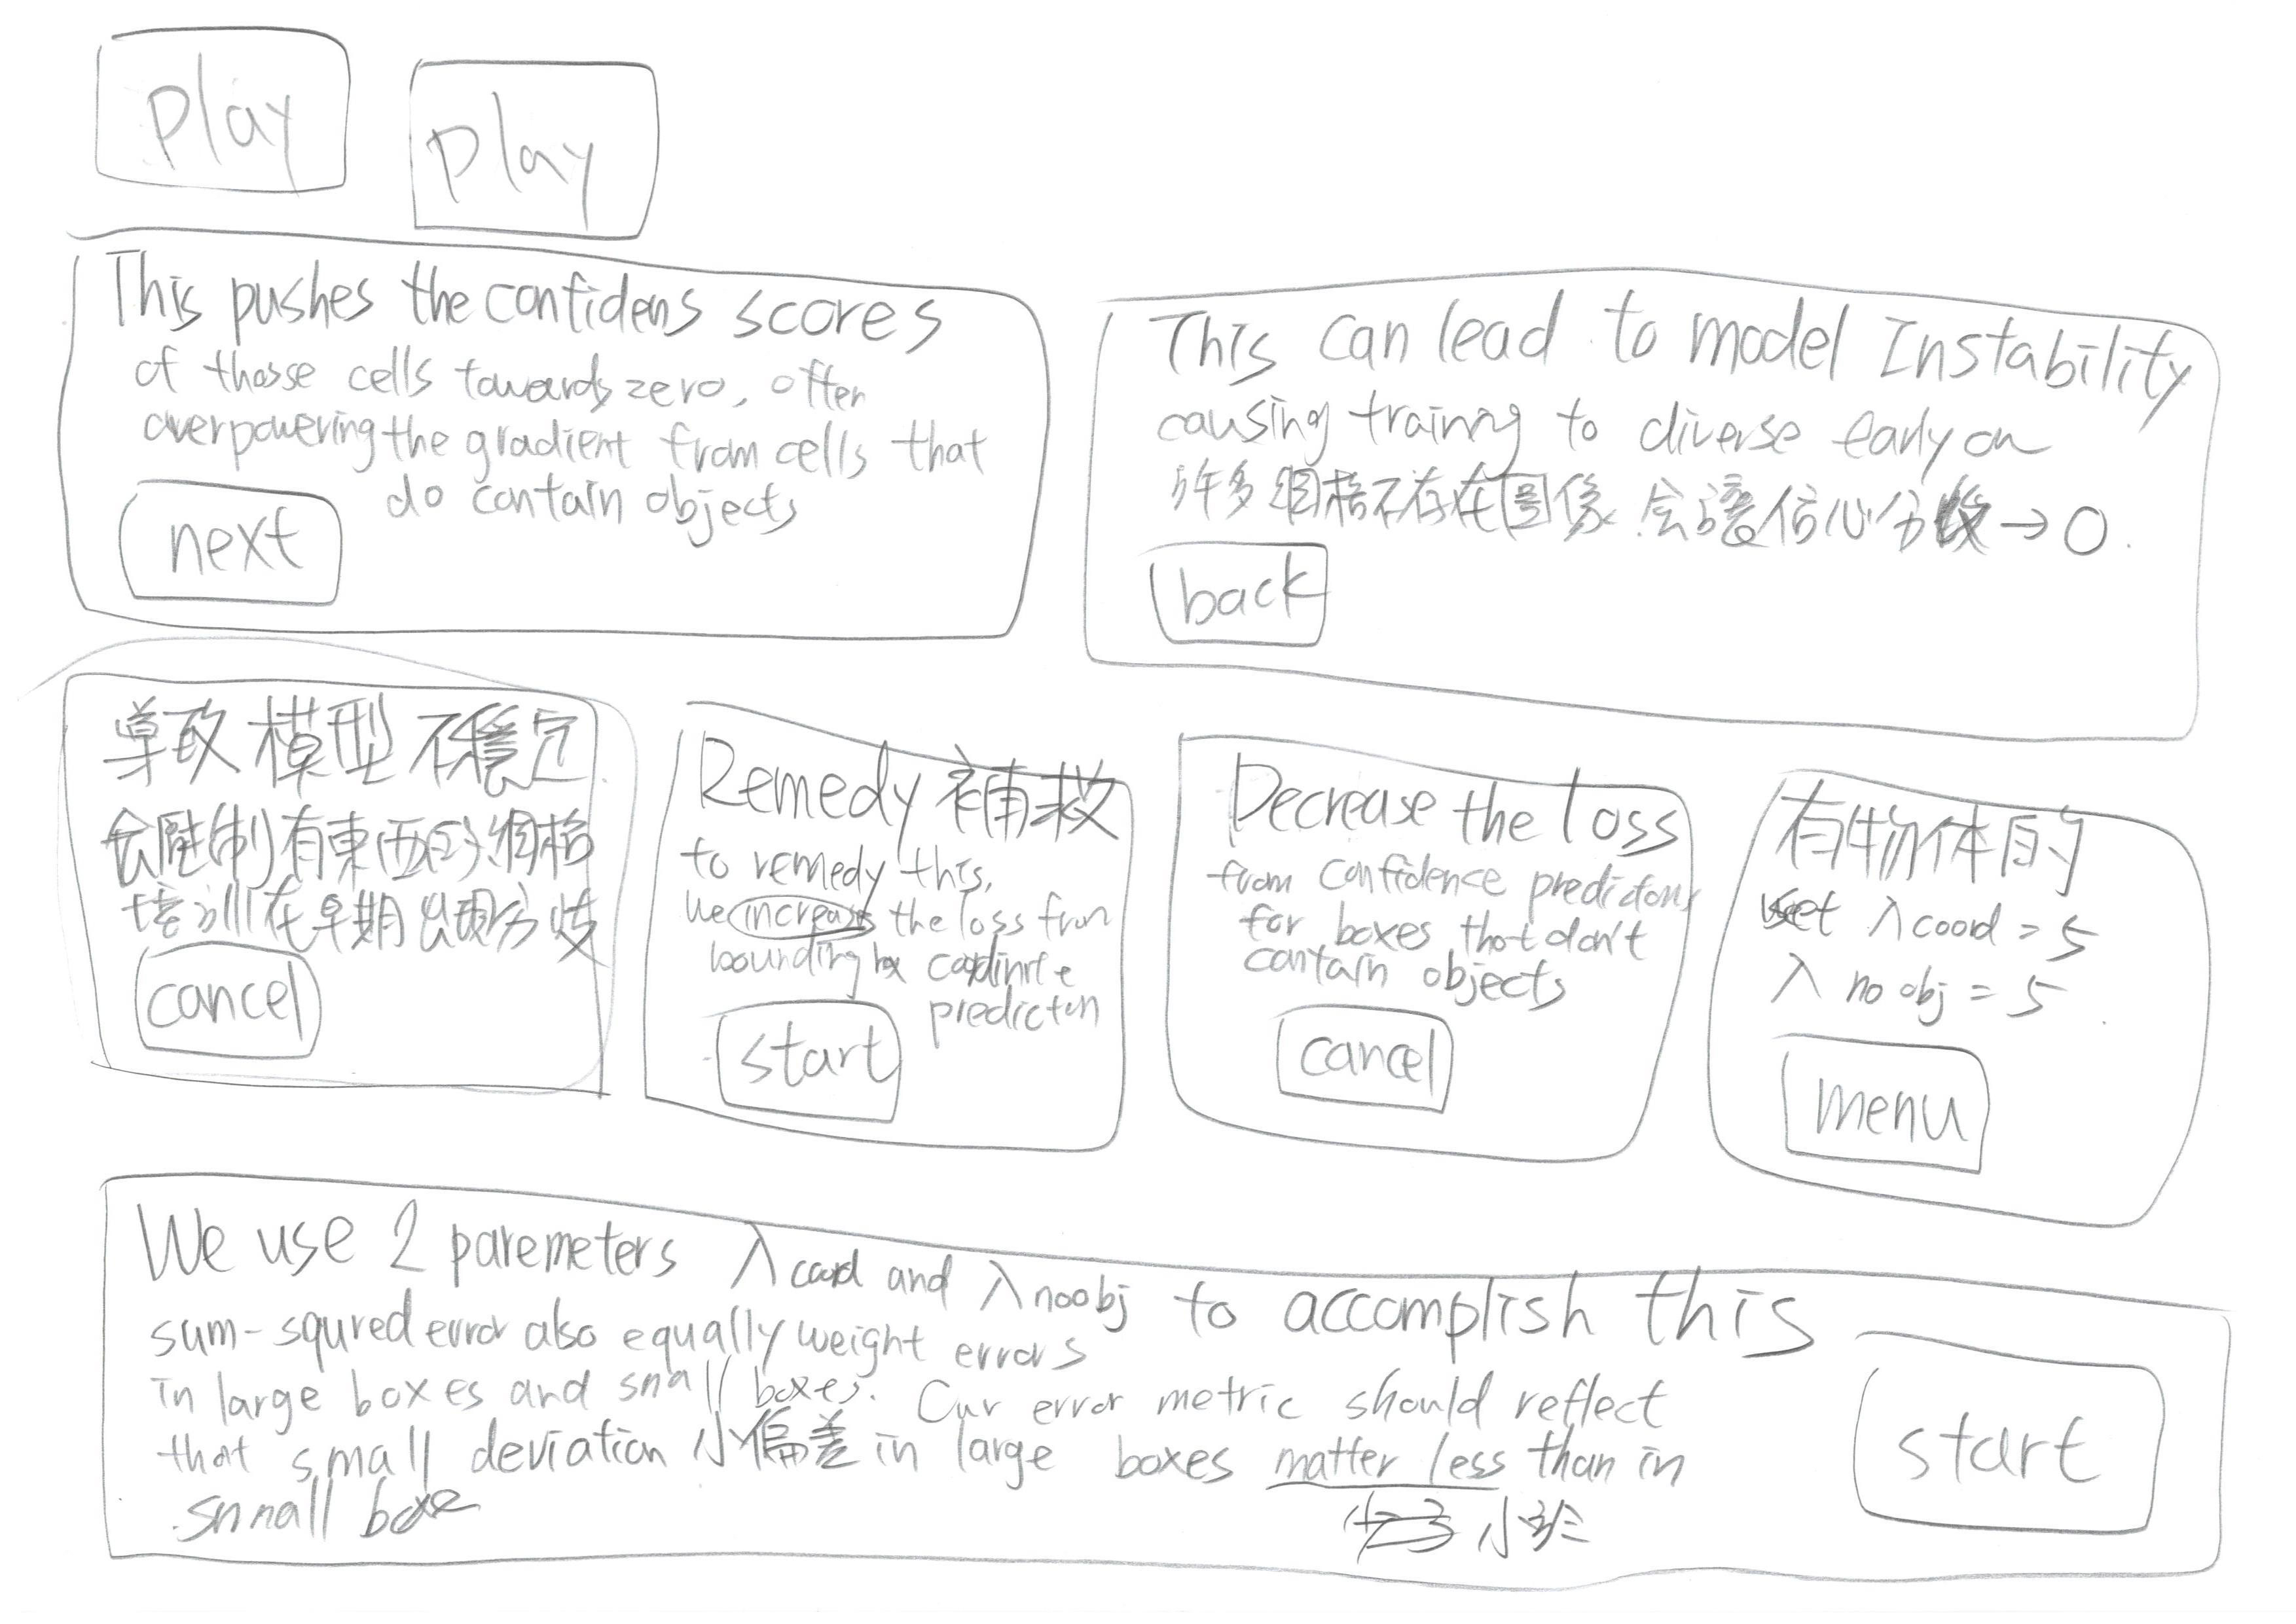back: (1113, 534, 1373, 661)
cancel: (1248, 988, 1480, 1137), (107, 937, 339, 1084)
double: (1074, 234, 2296, 754), (23, 209, 1094, 678)
menu: (1746, 1012, 2039, 1195)
next: (93, 468, 353, 613)
play: (373, 32, 696, 260), (53, 0, 376, 227)
quadruple: (40, 626, 687, 1155), (1704, 714, 2273, 1237), (1157, 675, 1726, 1197), (610, 654, 1178, 1176)
row: (0, 636, 2296, 1276), (0, 209, 2273, 752), (0, 1155, 2296, 1624), (21, 4, 2296, 264)
single: (62, 1149, 2296, 1612)
small-title: (127, 1183, 1871, 1374), (1136, 301, 2215, 469), (109, 234, 939, 353), (111, 696, 578, 891), (670, 708, 1139, 856), (1217, 738, 1686, 886), (1744, 784, 2099, 909)
start: (1798, 1295, 2208, 1547), (691, 986, 926, 1130)
text: (156, 1381, 1726, 1562), (100, 350, 1004, 529), (1153, 453, 2154, 564), (1211, 856, 1689, 1011), (665, 842, 1101, 997), (1732, 898, 2113, 1021), (139, 888, 598, 949)
